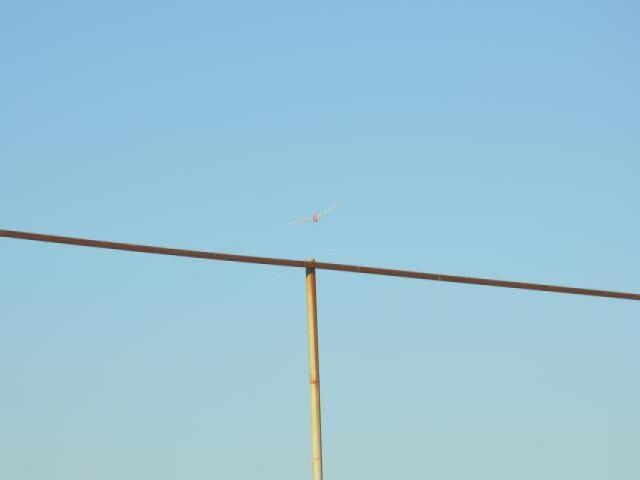iha: (288, 202, 340, 228)
